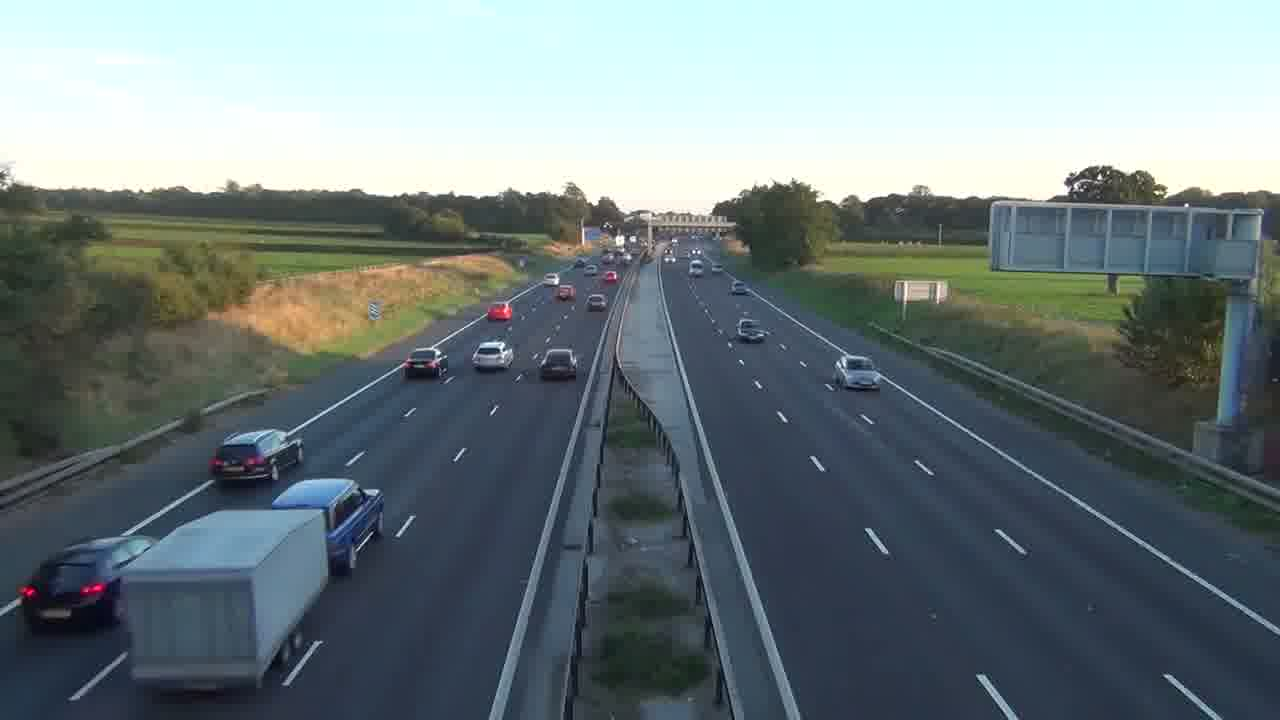car: (16, 534, 156, 634), (270, 476, 385, 576), (207, 428, 304, 485), (831, 354, 880, 391), (402, 347, 449, 379), (472, 339, 515, 372), (735, 318, 770, 343), (586, 291, 609, 311)
